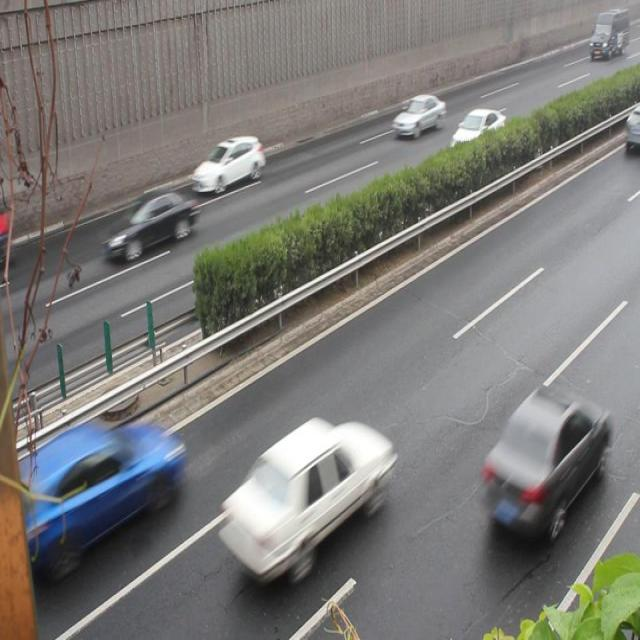car: (217, 419, 392, 574), (32, 423, 185, 561), (480, 388, 610, 538), (101, 191, 196, 263), (192, 135, 266, 194), (447, 109, 506, 160), (392, 94, 444, 139)
